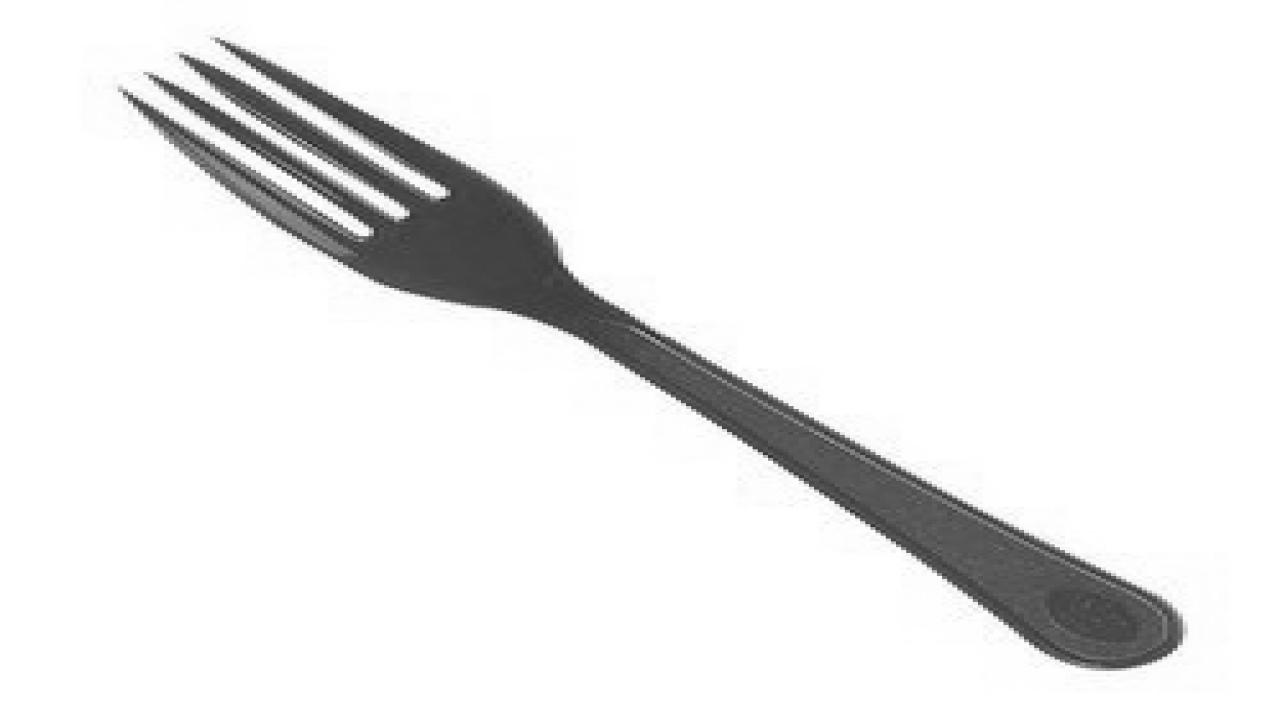fork: (112, 32, 1182, 668)
